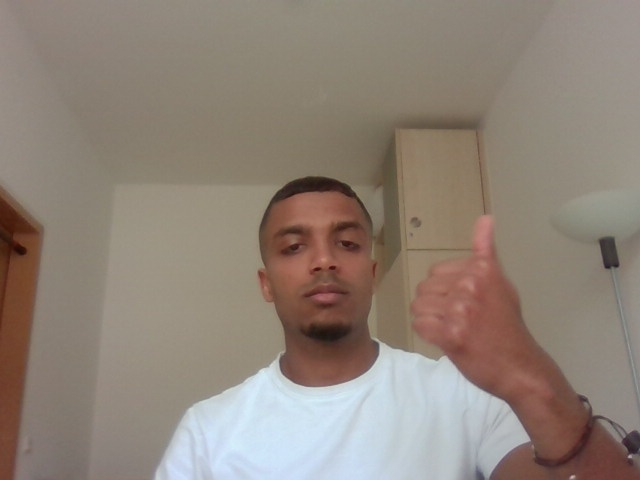yes: (403, 197, 550, 411)
